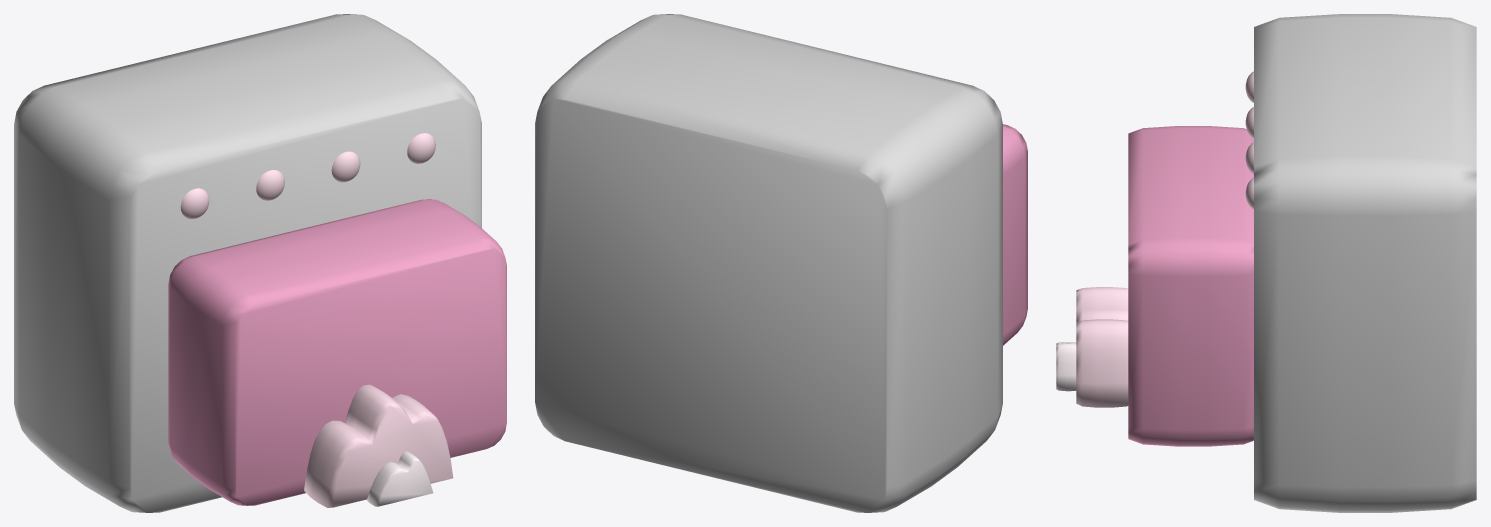
File: decor_1_candy.glb
3 renders of one model, left to right at view 1: azimuth 30°, elevation 25°; view 2: azimuth 150°, elevation 25°; view 3: azimuth 270°, elevation 25°, orthographic. The views are drawn at different scales.
Parts seen in each view (by area): view 1: decor_1_candy; view 2: decor_1_candy; view 3: decor_1_candy.
Part boxes in pixels (box(x1,y1,x2,y2)): decor_1_candy: box(14, 14, 506, 512); decor_1_candy: box(535, 14, 1027, 512); decor_1_candy: box(1056, 14, 1476, 512).
Size of the model in its own units: 14.91 by 13.91 by 15.02.
